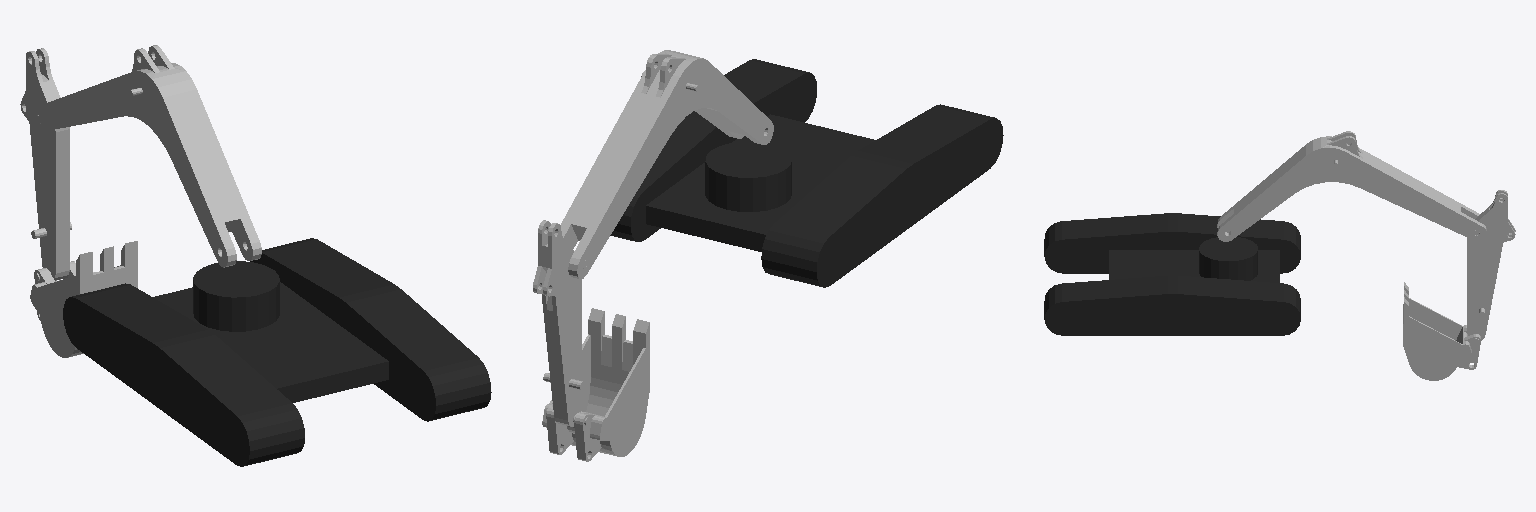
robot.urdf — MathScavator9000_flat.SLDASM:
<?xml version="1.0" encoding="utf-8"?>
<!-- This URDF was automatically created by SolidWorks to URDF Exporter! Originally created by [author] ([email redacted]) 
     Commit Version: 1.6.0-4-g7f85cfe  Build Version: 1.6.7995.38578
     For more information, please see http://wiki.ros.org/sw_urdf_exporter -->
<robot
  name="MathScavator9000_flat.SLDASM">
  <link
    name="base_link">
    <inertial>
      <origin
        xyz="-3.05023976636919E-16 -1.20579956142935 -0.755810436649642"
        rpy="0 0 0" />
      <mass
        value="139411.733176679" />
      <inertia
        ixx="390840.535733491"
        ixy="1.50663950062099E-10"
        ixz="1.45611998268111E-11"
        iyy="391481.853388216"
        iyz="-3915.94409741702"
        izz="759007.34593037" />
    </inertial>
    <visual>
      <origin
        xyz="0 0 0"
        rpy="0 0 0" />
      <geometry>
        <mesh
          filename="package://MathScavator9000_flat.SLDASM/meshes/base_link.STL" />
      </geometry>
      <material
        name="">
        <color
          rgba="0.2 0.2 0.2 1" />
      </material>
    </visual>
    <collision>
      <origin
        xyz="0 0 0"
        rpy="0 0 0" />
      <geometry>
        <mesh
          filename="package://MathScavator9000_flat.SLDASM/meshes/base_link.STL" />
      </geometry>
    </collision>
  </link>
  <link
    name="base_chassis_link">
    <inertial>
      <origin
        xyz="-0.0572240980964203 -1.43061378500035 0.653734550513117"
        rpy="0 0 0" />
      <mass
        value="17434.1065917836" />
      <inertia
        ixx="52076.3140370513"
        ixy="2716.06120599586"
        ixz="816.956173700325"
        iyy="26944.2657197114"
        iyz="606.221908596681"
        izz="68968.3416230044" />
    </inertial>
    <visual>
      <origin
        xyz="0 0 0"
        rpy="0 0 0" />
      <geometry>
        <mesh
          filename="package://MathScavator9000_flat.SLDASM/meshes/base_chassis_link.STL" />
      </geometry>
      <material
        name="">
        <color
          rgba="0.792156862745098 0.819607843137255 0.933333333333333 1" />
      </material>
    </visual>
    <collision>
      <origin
        xyz="0 0 0"
        rpy="0 0 0" />
      <geometry>
        <mesh
          filename="package://MathScavator9000_flat.SLDASM/meshes/base_chassis_link.STL" />
      </geometry>
    </collision>
  </link>
  <joint
    name="base_chassis_joint"
    type="revolute">
    <origin
      xyz="0 0 0"
      rpy="0 0 0" />
    <parent
      link="base_link" />
    <child
      link="base_chassis_link" />
    <axis
      xyz="0 0 1" />
    <limit
      lower="-3.1416"
      upper="3.1416"
      effort="0"
      velocity="0" />
  </joint>
  <link
    name="chassis_boom_link">
    <inertial>
      <origin
        xyz="0.0039527335373066 2.96633588860166 1.18421723050726"
        rpy="0 0 0" />
      <mass
        value="7226.51425767388" />
      <inertia
        ixx="22079.1743026141"
        ixy="1.98204188980526E-10"
        ixz="1.08721982722814E-08"
        iyy="3017.47837524302"
        iyz="1247.0083877576"
        izz="19647.7828147159" />
    </inertial>
    <visual>
      <origin
        xyz="0 0 0"
        rpy="0 0 0" />
      <geometry>
        <mesh
          filename="package://MathScavator9000_flat.SLDASM/meshes/chassis_boom_link.STL" />
      </geometry>
      <material
        name="">
        <color
          rgba="0.752941176470588 0.752941176470588 0.752941176470588 1" />
      </material>
    </visual>
    <collision>
      <origin
        xyz="0 0 0"
        rpy="0 0 0" />
      <geometry>
        <mesh
          filename="package://MathScavator9000_flat.SLDASM/meshes/chassis_boom_link.STL" />
      </geometry>
    </collision>
  </link>
  <joint
    name="chassis_boom_joint"
    type="revolute">
    <origin
      xyz="0 -0.017409 0.59759"
      rpy="0 0 0" />
    <parent
      link="base_chassis_link" />
    <child
      link="chassis_boom_link" />
    <axis
      xyz="1 0 0" />
    <limit
      lower="-0.5585"
      upper="1.2415"
      effort="0"
      velocity="0" />
  </joint>
  <link
    name="boom_stick_link">
    <inertial>
      <origin
        xyz="0.00395274548130705 0.190623052799124 -1.07233713079083"
        rpy="0 0 0" />
      <mass
        value="3327.88972318624" />
      <inertia
        ixx="3745.72992467607"
        ixy="1.27627827542214E-08"
        ixz="4.66017295519215E-08"
        iyy="3546.50673779034"
        iyz="-450.045626010779"
        izz="257.342729612262" />
    </inertial>
    <visual>
      <origin
        xyz="0 0 0"
        rpy="0 0 0" />
      <geometry>
        <mesh
          filename="package://MathScavator9000_flat.SLDASM/meshes/boom_stick_link.STL" />
      </geometry>
      <material
        name="">
        <color
          rgba="0.752941176470588 0.752941176470588 0.752941176470588 1" />
      </material>
    </visual>
    <collision>
      <origin
        xyz="0 0 0"
        rpy="0 0 0" />
      <geometry>
        <mesh
          filename="package://MathScavator9000_flat.SLDASM/meshes/boom_stick_link.STL" />
      </geometry>
    </collision>
  </link>
  <joint
    name="boom_stick_joint"
    type="revolute">
    <origin
      xyz="0 6.24 0"
      rpy="0 0 0" />
    <parent
      link="chassis_boom_link" />
    <child
      link="boom_stick_link" />
    <axis
      xyz="1 0 0" />
    <limit
      lower="-0.8179"
      upper="1.0821"
      effort="0"
      velocity="0" />
  </joint>
  <link
    name="stick_bucket_link">
    <inertial>
      <origin
        xyz="0.00375274572184522 -1.02699793667954 -0.245273272991185"
        rpy="0 0 0" />
      <mass
        value="5119.51057768466" />
      <inertia
        ixx="3257.00344965316"
        ixy="-1.05357918855887E-08"
        ixz="-1.6312605612954E-08"
        iyy="2016.29928536516"
        iyz="638.207540993486"
        izz="2725.30205196773" />
    </inertial>
    <visual>
      <origin
        xyz="0 0 0"
        rpy="0 0 0" />
      <geometry>
        <mesh
          filename="package://MathScavator9000_flat.SLDASM/meshes/stick_bucket_link.STL" />
      </geometry>
      <material
        name="">
        <color
          rgba="0.752941176470588 0.752941176470588 0.752941176470588 1" />
      </material>
    </visual>
    <collision>
      <origin
        xyz="0 0 0"
        rpy="0 0 0" />
      <geometry>
        <mesh
          filename="package://MathScavator9000_flat.SLDASM/meshes/stick_bucket_link.STL" />
      </geometry>
    </collision>
  </link>
  <joint
    name="stick_bucket_joint"
    type="revolute">
    <origin
      xyz="0 -0.0091425 -2.9796"
      rpy="0 0 0" />
    <parent
      link="boom_stick_link" />
    <child
      link="stick_bucket_link" />
    <axis
      xyz="-1 0 0" />
    <limit
      lower="-2.2689"
      upper="0"
      effort="0"
      velocity="0" />
  </joint>
</robot>

--- What the picture shows (computed from the rendered views, not written in the file) ---
3 views of the same robot in one strip: view 1: azimuth 30°, elevation 25°; view 2: azimuth 150°, elevation 25°; view 3: azimuth 270°, elevation 25° (orthographic).
Model MathScavator9000_flat.SLDASM with 5 links and 4 joints (4 revolute), rooted at base_link, posed all joints at 0.
Links seen in each view (by area): view 1: base_link, chassis_boom_link, boom_stick_link, stick_bucket_link; view 2: base_link, chassis_boom_link, stick_bucket_link, boom_stick_link; view 3: base_link, chassis_boom_link, stick_bucket_link, boom_stick_link.
Boxes of the visible links, x1,y1,x2,y2 form: base_link: (63,238,491,466); chassis_boom_link: (31,45,261,267); boom_stick_link: (20,48,71,281); stick_bucket_link: (30,241,137,357); base_link: (610,59,1003,287); chassis_boom_link: (561,50,773,278); stick_bucket_link: (542,308,649,461); boom_stick_link: (533,220,589,426); base_link: (1044,213,1300,335); chassis_boom_link: (1217,131,1486,241); stick_bucket_link: (1403,282,1480,380); boom_stick_link: (1467,190,1515,343).
Bounding box of the posed robot: 4.8 × 11.82 × 6.57 m (x, y, z).
Meshes: 5 distinct files referenced, 4 mesh visuals loaded (4 binary STL); not drawn: 1 (reference not matched to a file when rendering).